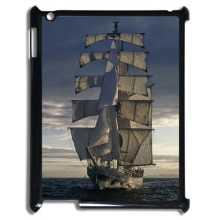fanchuan: (66, 20, 165, 192)
